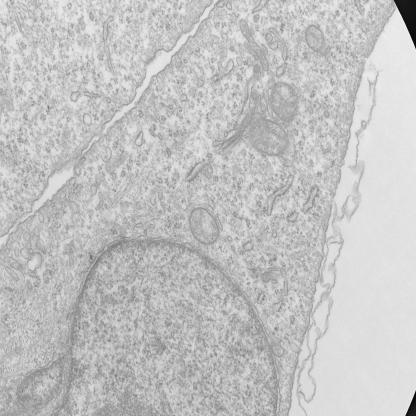mitochondria: (247, 116, 290, 158), (187, 205, 222, 246), (269, 80, 301, 124), (304, 24, 326, 54)
